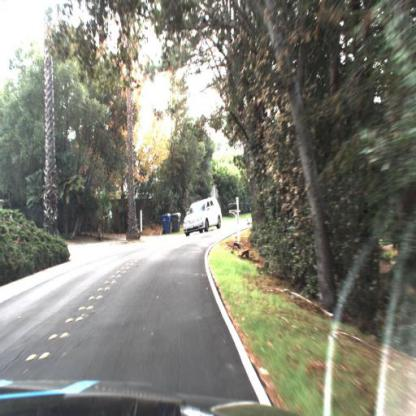car: (182, 192, 224, 235)
